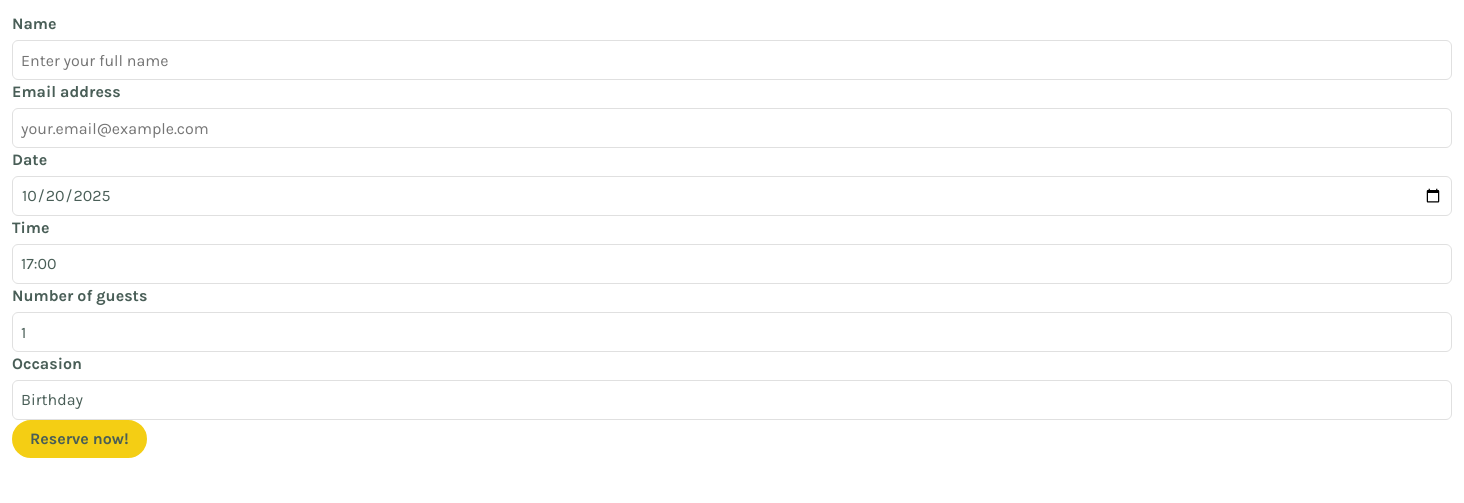
Scenario: Reservation form › should display an error message and disable sumbit button when number of     guests field's value is empty
The image size is (1464, 503).
Clear the number field labelled "Number of guests" at coordinates (732, 332), box left=12, top=312, right=1452, bottom=352
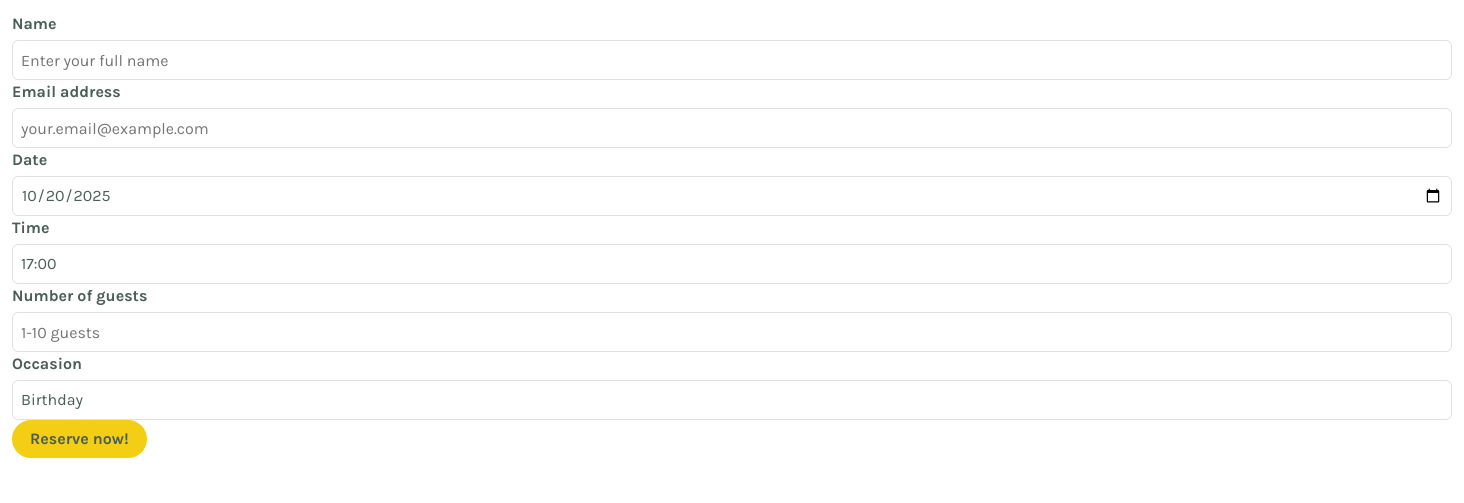
Leave the number field labelled "Number of guests", box left=12, top=312, right=1452, bottom=352
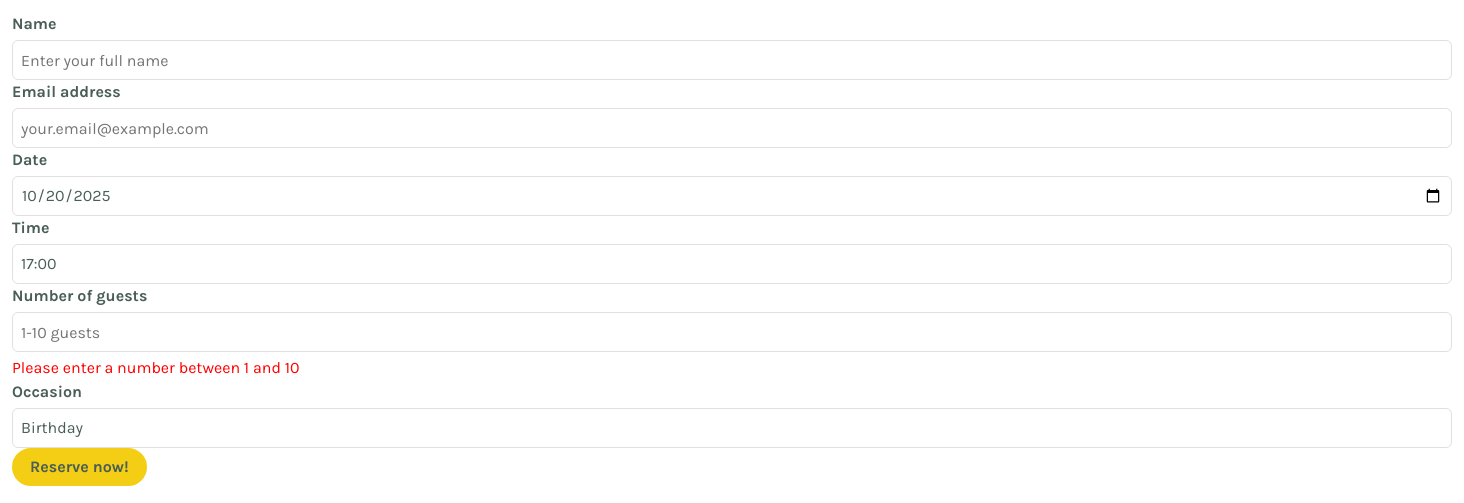
Result: the text "Please enter a number between 1 and 10" is shown at left=12, top=358, right=300, bottom=377
Result: the button is disabled at left=12, top=448, right=147, bottom=486
